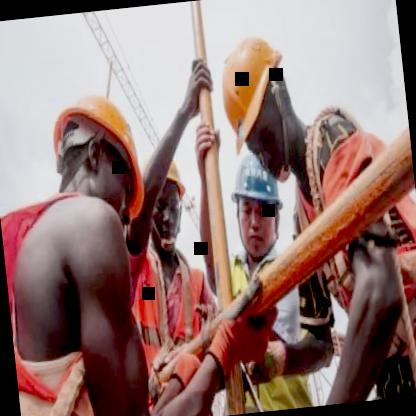helmet: (38, 72, 150, 224), (210, 31, 304, 186), (221, 138, 290, 260), (136, 148, 193, 252)
